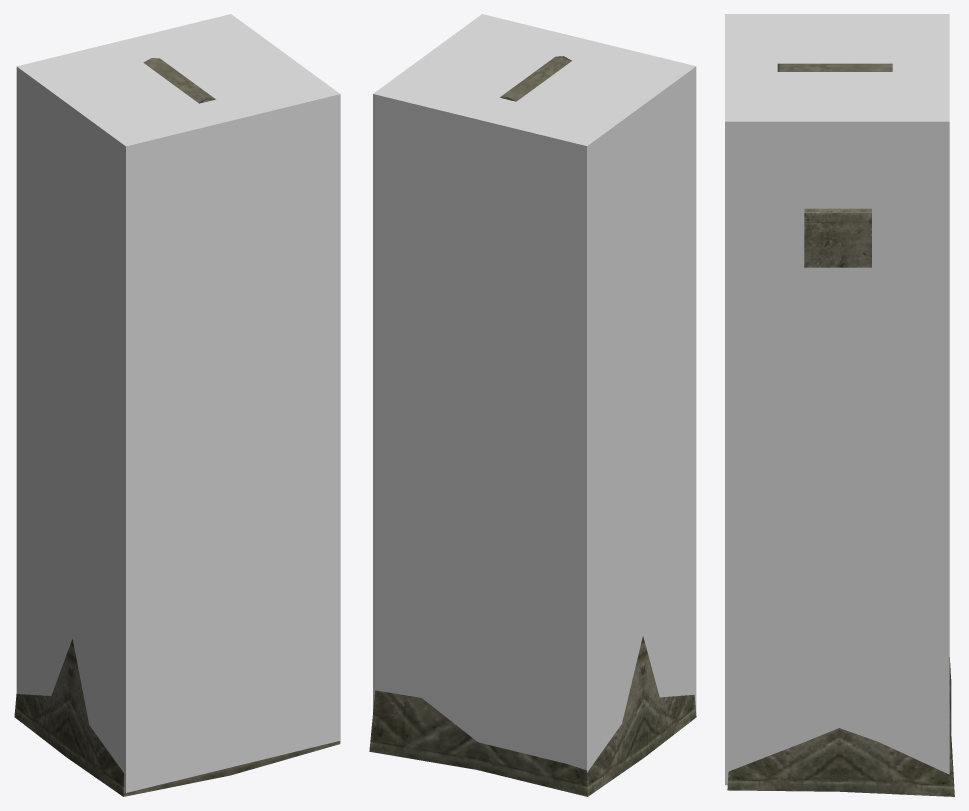
File: YHJ_lubiao.FBX
The picture shows the model from 3 angles, left to right: view 1: azimuth 30°, elevation 25°; view 2: azimuth 150°, elevation 25°; view 3: azimuth 270°, elevation 25°; orthographic projection. The views are drawn at different scales.
Visible parts, largest first — view 1: YHJ_bubiao-col, YHJ_bubiao; view 2: YHJ_bubiao-col, YHJ_bubiao; view 3: YHJ_bubiao-col, YHJ_bubiao.
Part boxes in pixels (x1,y1,x2,y2): YHJ_bubiao-col: [16, 14, 340, 792]; YHJ_bubiao: [14, 58, 340, 796]; YHJ_bubiao-col: [373, 14, 696, 772]; YHJ_bubiao: [369, 56, 696, 796]; YHJ_bubiao-col: [725, 14, 949, 785]; YHJ_bubiao: [727, 63, 954, 796].
Size of the model in its own units: 50.42 by 140 by 43.16.
